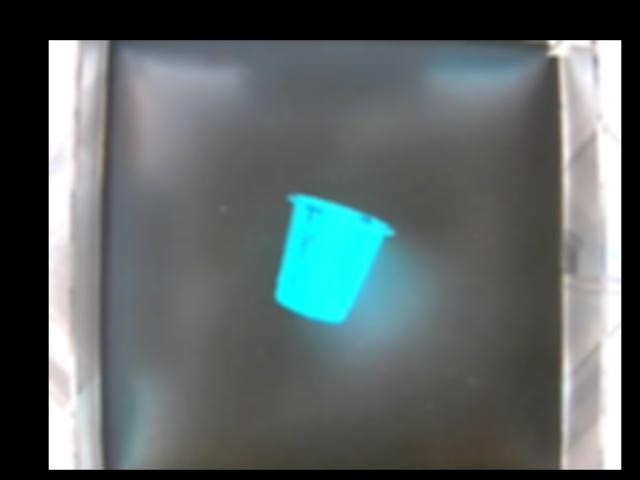Cup: (272, 194, 394, 322)
